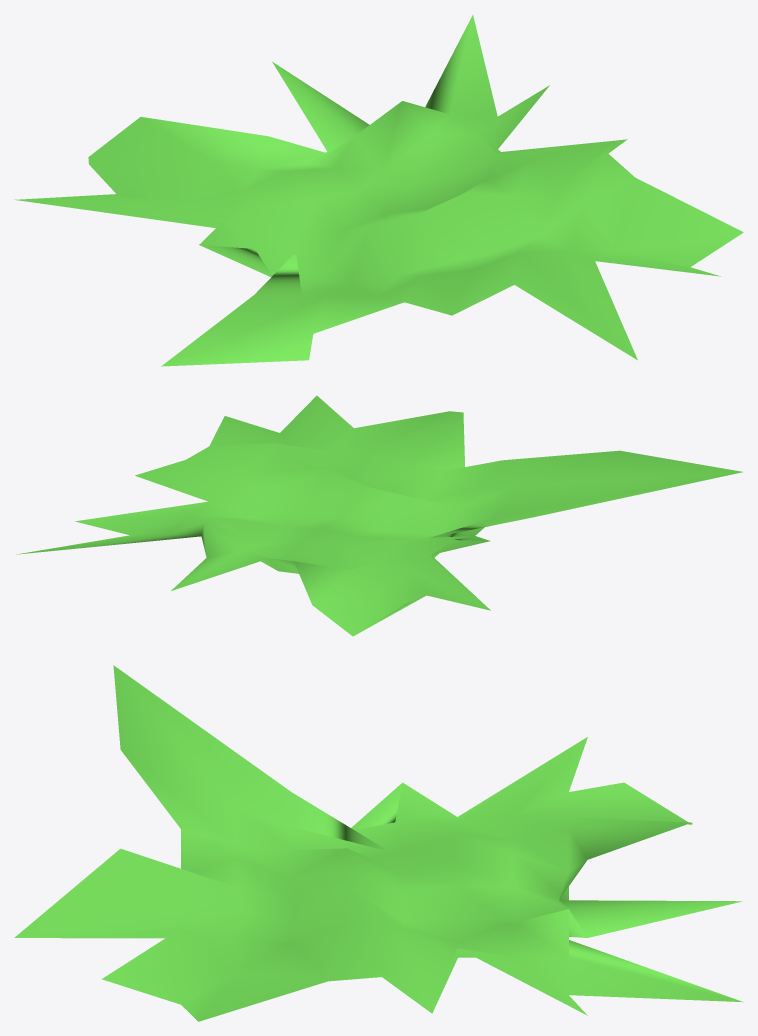
File: lettuce.gltf
3 renders of one model, top to bottom at view 1: azimuth 30°, elevation 25°; view 2: azimuth 150°, elevation 25°; view 3: azimuth 270°, elevation 25°, orthographic. The views are drawn at different scales.
Parts seen in each view (by area): view 1: Plane; view 2: Plane; view 3: Plane.
Part boxes in pixels (left/top/right/bottom): Plane: left=14, top=15, right=743, bottom=366; Plane: left=16, top=395, right=742, bottom=636; Plane: left=14, top=665, right=743, bottom=1021.
Size of the model in its own units: 1.91 by 0.1827 by 1.92.
